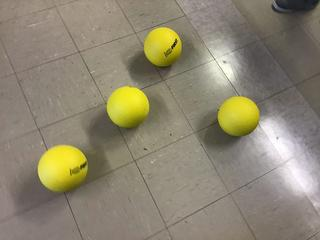power_cell: (36, 142, 91, 194), (104, 86, 154, 131), (214, 95, 262, 139), (141, 25, 185, 69)
